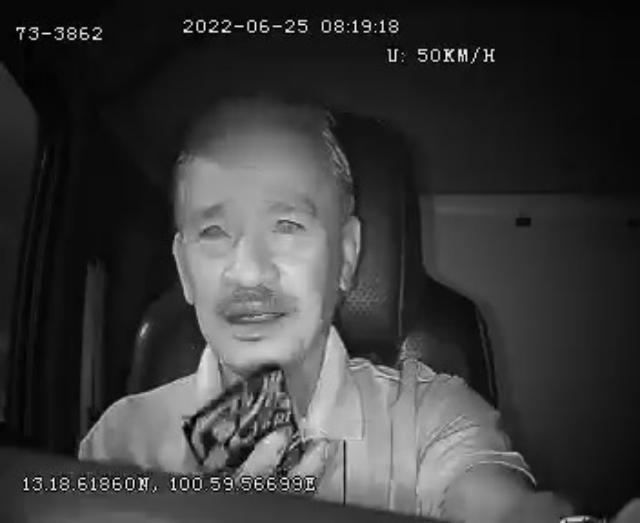PhoneUse: (182, 360, 300, 474)
SafeDriving: (187, 205, 239, 252), (266, 201, 314, 242)
